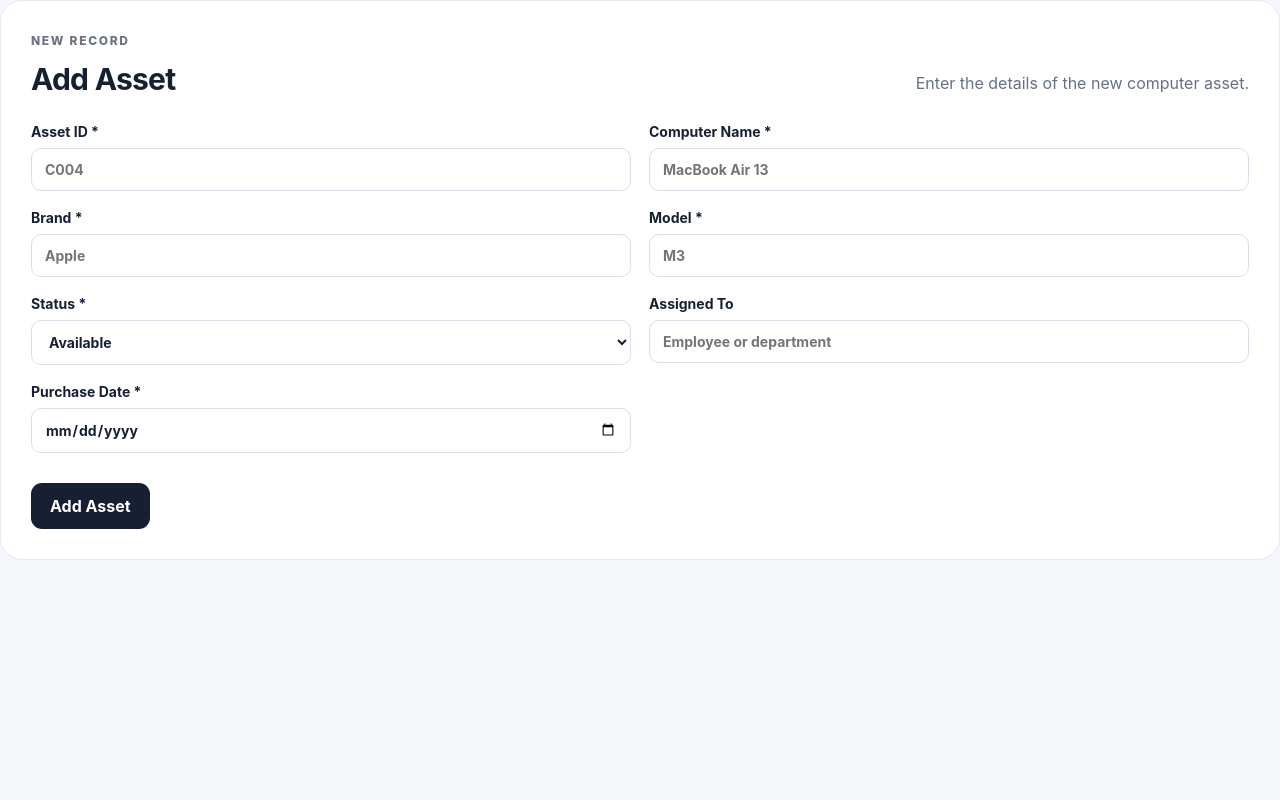
Scenario: AssetForm › rejects a duplicate asset ID
The width and height of the screenshot is (1280, 800).
Type "C001" into the field labelled "Asset ID *".
click(331, 169); type("C001")  # box left=31, top=148, right=631, bottom=191
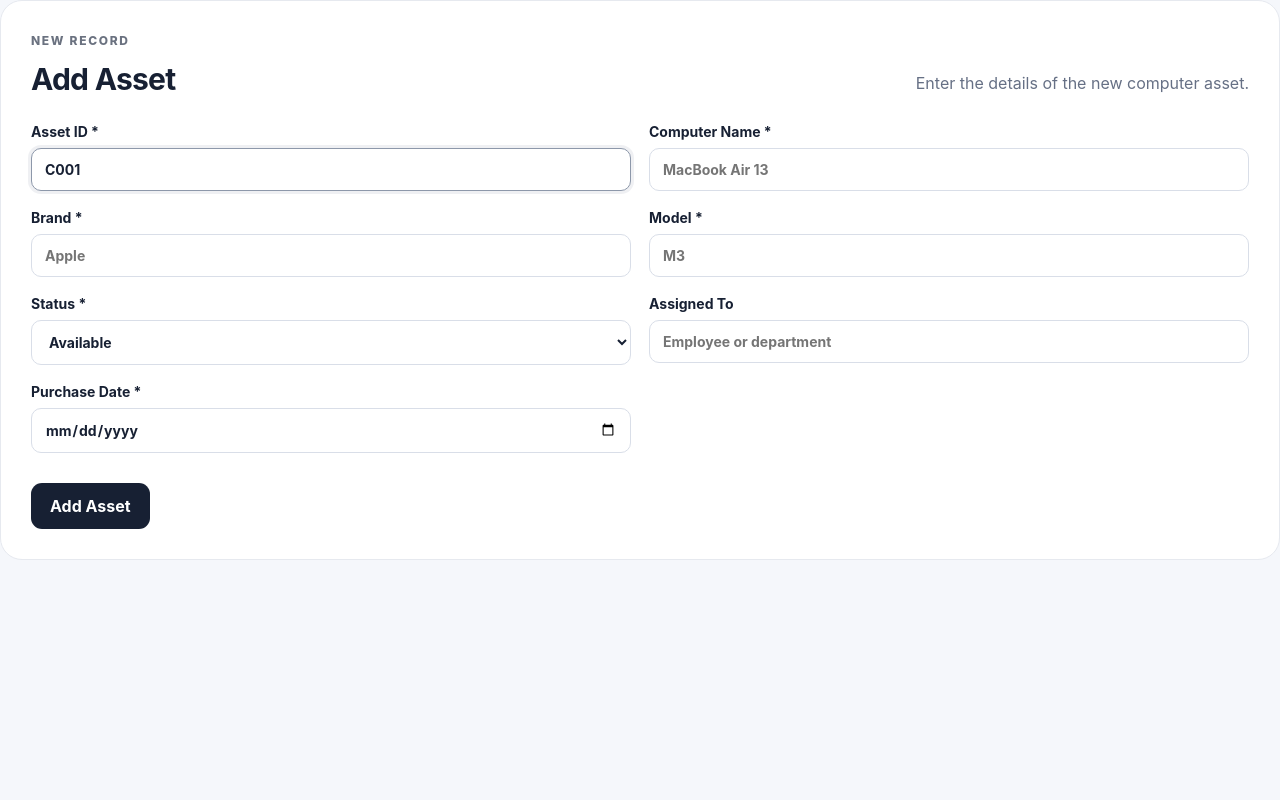
Type "New Laptop" into the field labelled "Computer Name *".
click(949, 169); type("New Laptop")  # box left=649, top=148, right=1249, bottom=191
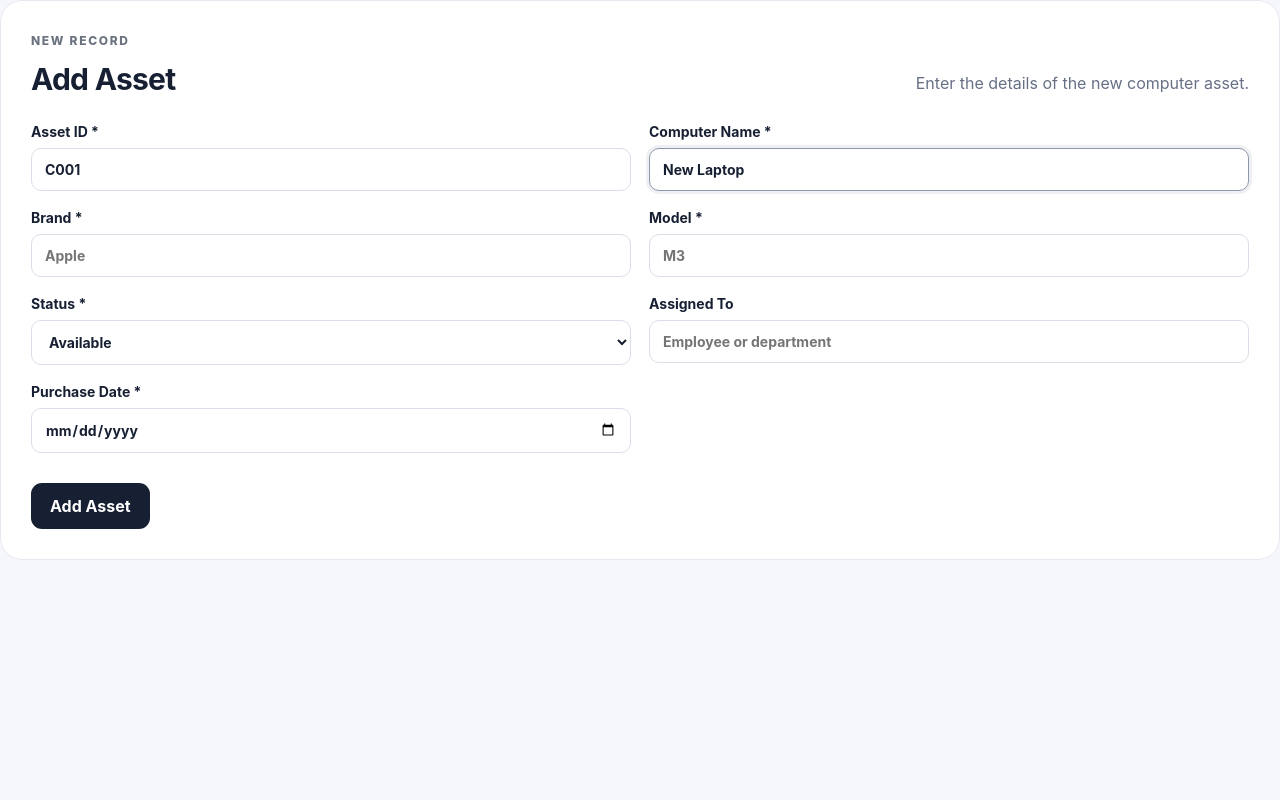
Type "HP" into the field labelled "Brand *".
click(331, 255); type("HP")  # box left=31, top=234, right=631, bottom=277
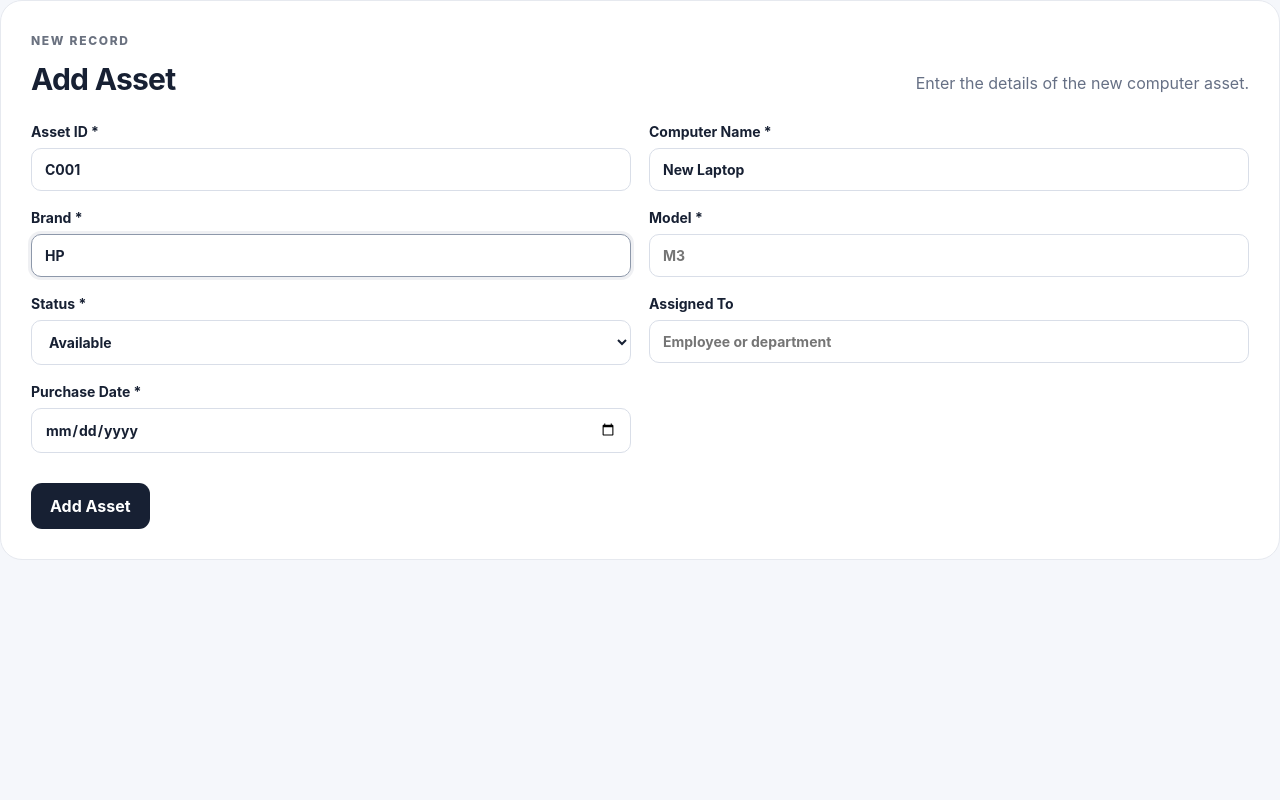
Type "EliteBook" into the field labelled "Model *".
click(949, 255); type("EliteBook")  # box left=649, top=234, right=1249, bottom=277
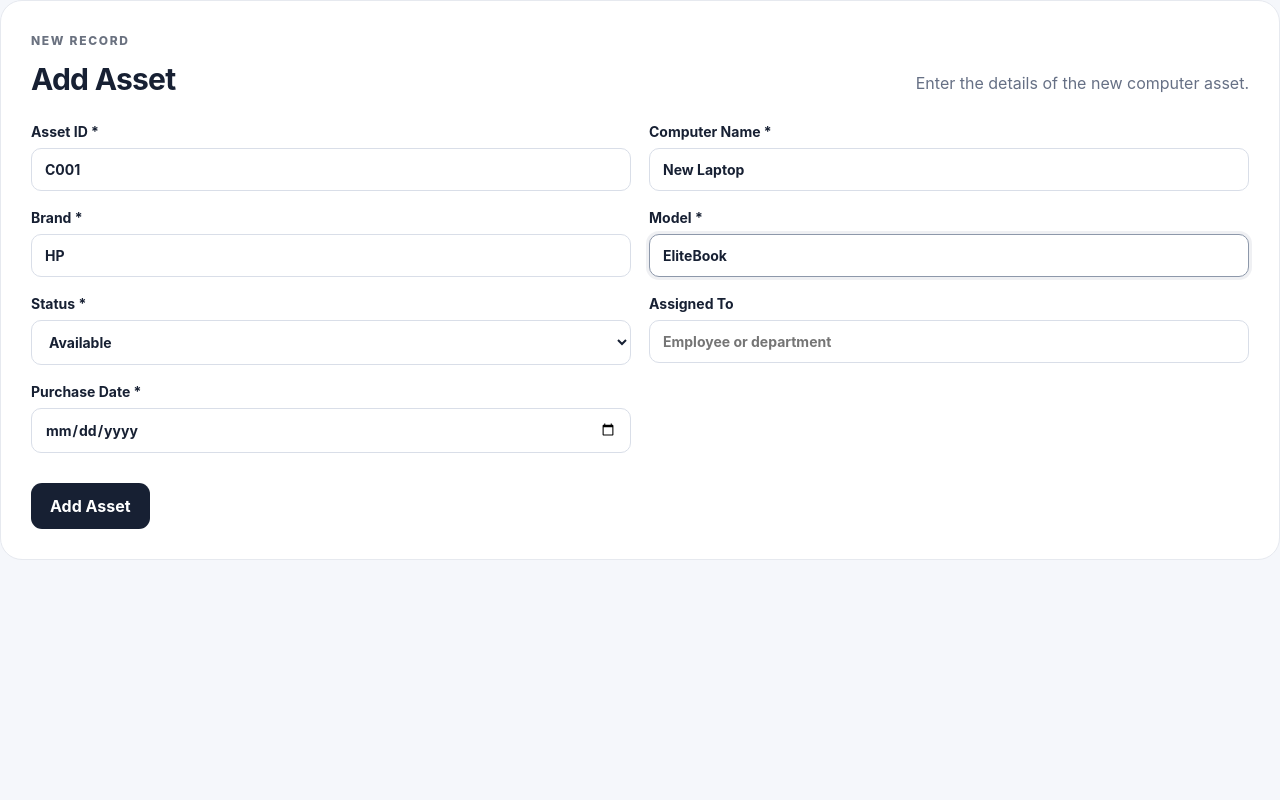
Type "2026-02-01" into the date field labelled "Purchase Date *".
click(331, 430); type("2026-02-01")  # box left=31, top=408, right=631, bottom=453
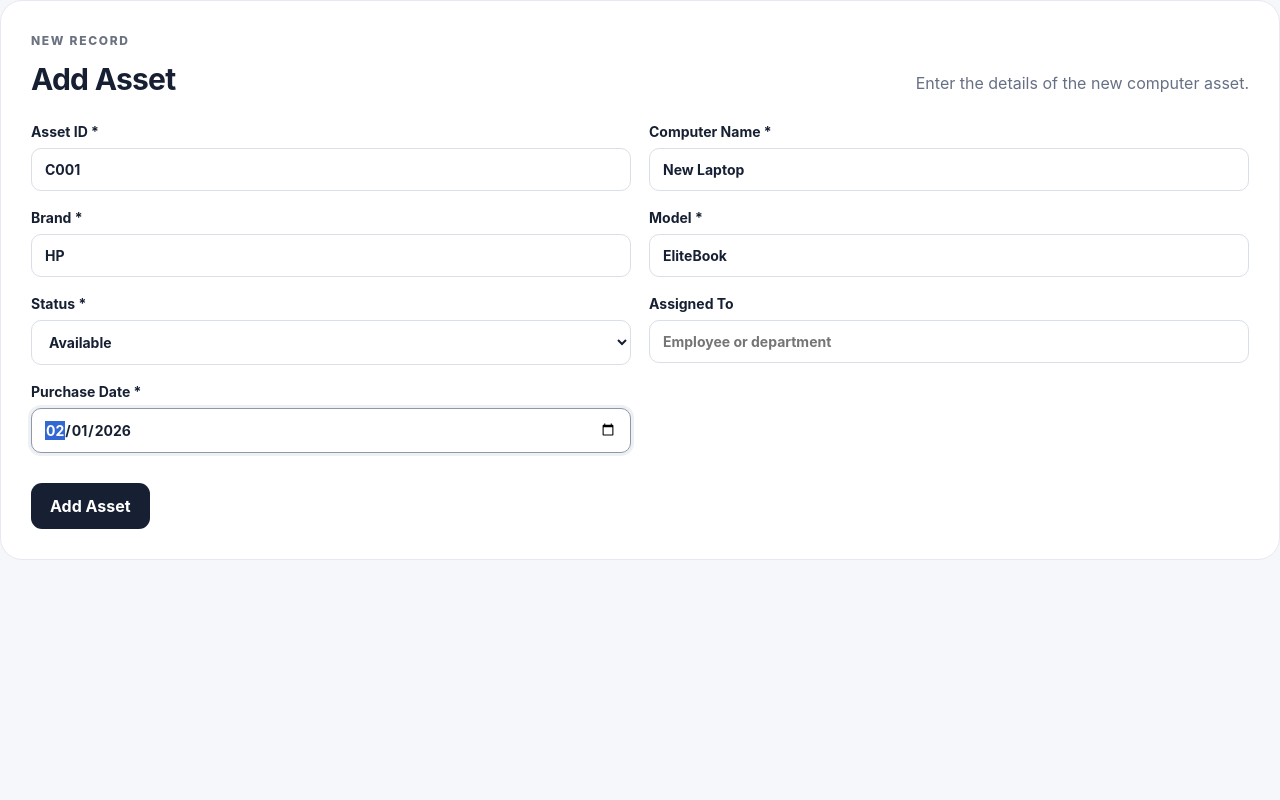
Click the button "Add Asset".
click(90, 506)  # box left=31, top=483, right=150, bottom=529
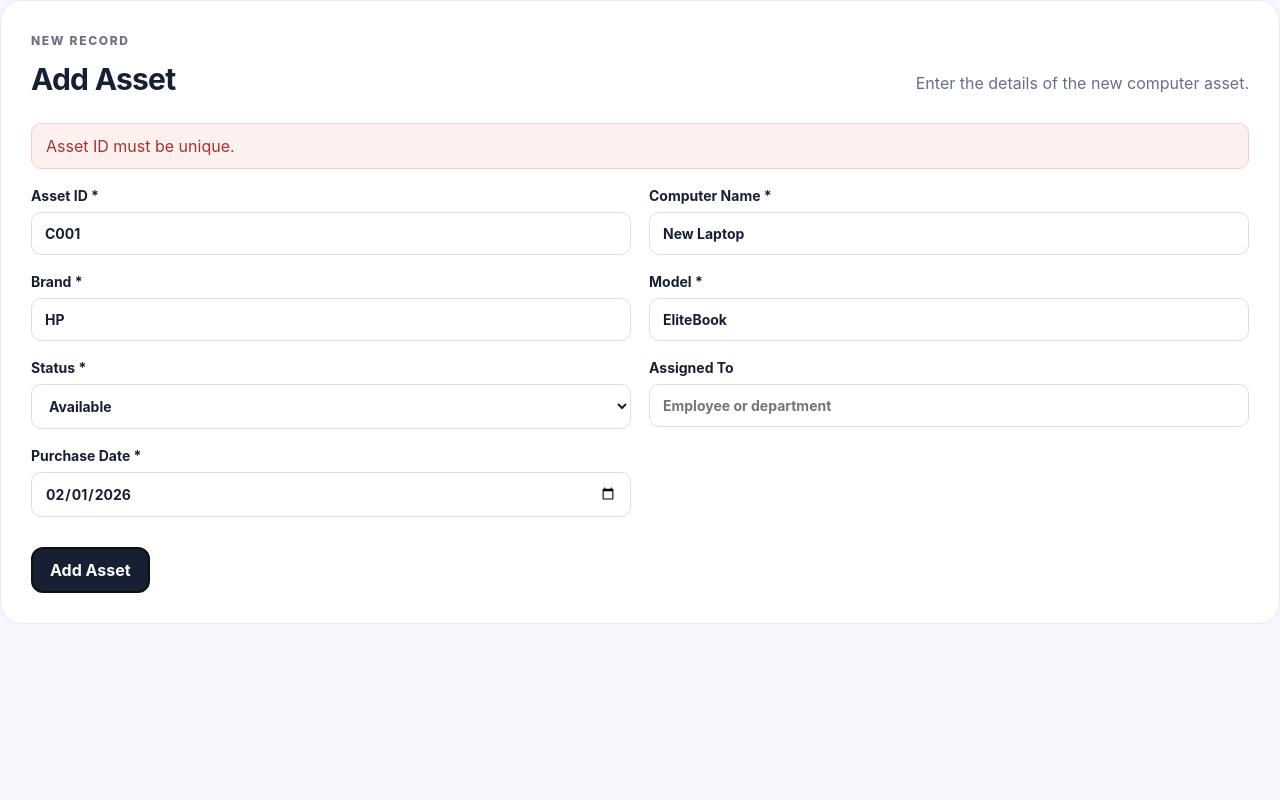
Expected: the message shows "unique", left=46, top=136, right=235, bottom=156
